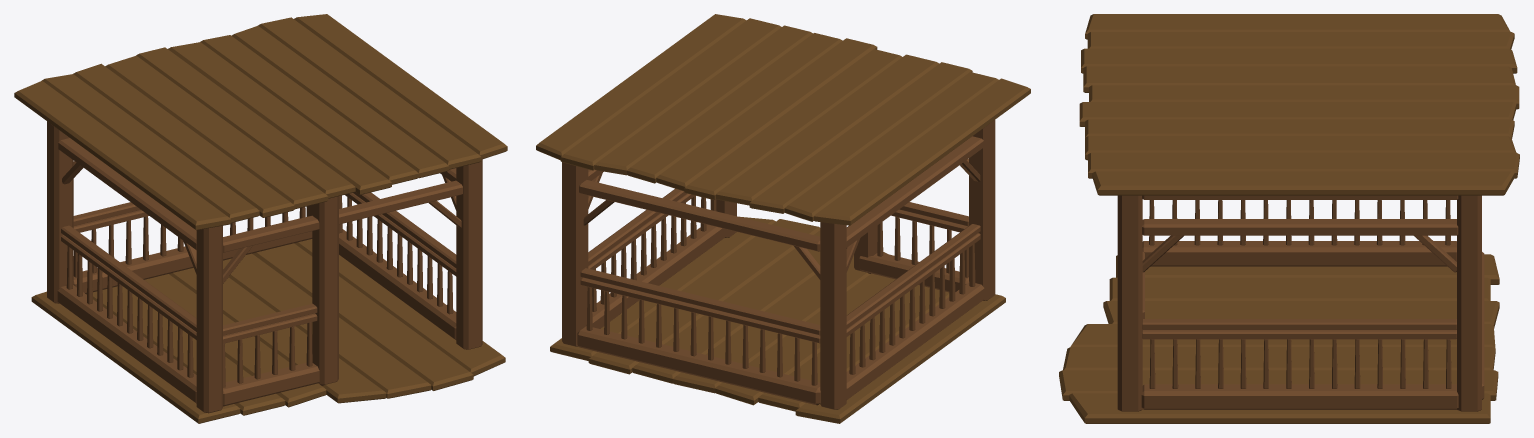
Rendered from farmstractures_03.gltf.
3 views of the same model, side by side, from view 1: azimuth 30°, elevation 25°; view 2: azimuth 150°, elevation 25°; view 3: azimuth 270°, elevation 25° (orthographic). The views are drawn at different scales.
Parts seen in each view (by area): view 1: body, blades; view 2: body, blades; view 3: blades, body.
Boxes of the visible parts, x1,y1,x2,y2 form: body: (31, 121, 507, 423); blades: (14, 14, 503, 252); body: (536, 120, 1005, 423); blades: (540, 14, 1030, 251); blades: (1079, 14, 1519, 235); body: (1059, 14, 1519, 423).
Bounding box in the file's own units: 3.58 × 2.31 × 4.
Materials: 1 (1 with a texture image).
